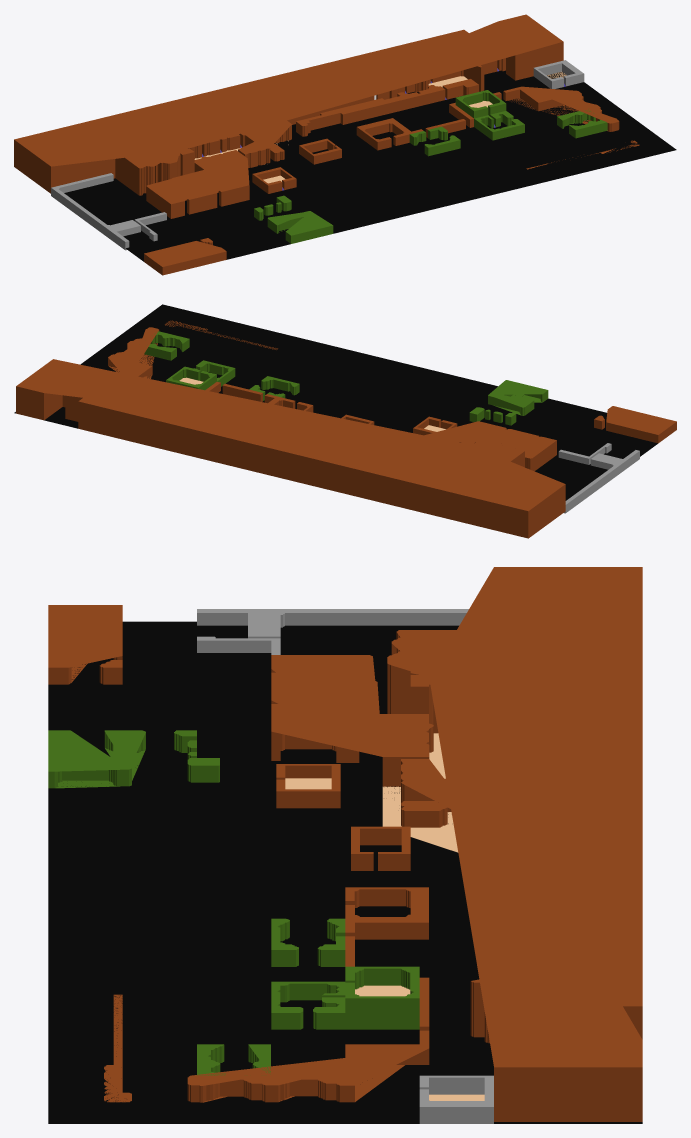
Rendered from Rest Of map.obj.
3 views of the same model, one above another, from view 1: azimuth 30°, elevation 25°; view 2: azimuth 150°, elevation 25°; view 3: azimuth 270°, elevation 25° (orthographic). The views are drawn at different scales.
Parts seen in each view (by area): view 1: Mesh42 Model, Mesh56 Model, Mesh51 Model, Mesh50 Model, Mesh54 Model, Mesh41 Model, Mesh37 Group34 Model, Mesh53 Model, Mesh49 Model, Mesh48 Model; view 2: Mesh42 Model, Mesh56 Model, Mesh51 Model, Mesh54 Model, Mesh41 Model, Mesh50 Model, Mesh53 Model, Mesh48 Model, Mesh16 Group13 Model, Mesh37 Group34 Model; view 3: Mesh56 Model, Mesh42 Model, Mesh51 Model, Mesh50 Model, Mesh41 Model, Mesh54 Model, Mesh37 Group34 Model, Mesh53 Model, Mesh49 Model, Mesh13 Group11 Model, Mesh52 Model, Mesh43 Model (+2 smaller).
Boxes of the visible parts, x1,y1,x2,y2 form: Mesh42 Model: (14, 14, 584, 250); Mesh56 Model: (64, 70, 676, 261); Mesh51 Model: (503, 86, 619, 138); Mesh50 Model: (449, 90, 524, 140); Mesh54 Model: (144, 241, 226, 275); Mesh41 Model: (267, 211, 333, 243); Mesh37 Group34 Model: (356, 118, 423, 150); Mesh53 Model: (252, 167, 296, 193); Mesh49 Model: (299, 138, 341, 164); Mesh48 Model: (424, 135, 460, 156); Mesh42 Model: (16, 359, 639, 538); Mesh56 Model: (14, 304, 657, 500); Mesh51 Model: (108, 327, 189, 378); Mesh54 Model: (606, 406, 676, 443); Mesh41 Model: (488, 380, 548, 415); Mesh50 Model: (166, 360, 235, 392); Mesh53 Model: (413, 416, 457, 435); Mesh48 Model: (261, 376, 299, 395); Mesh16 Group13 Model: (222, 383, 262, 401); Mesh37 Group34 Model: (264, 394, 313, 412); Mesh56 Model: (48, 621, 642, 1123); Mesh42 Model: (197, 567, 642, 1123); Mesh51 Model: (187, 1030, 429, 1102); Mesh50 Model: (271, 966, 429, 1030); Mesh41 Model: (48, 730, 145, 788); Mesh54 Model: (48, 605, 122, 684); Mesh37 Group34 Model: (345, 887, 428, 939); Mesh53 Model: (276, 764, 340, 808); Mesh49 Model: (351, 826, 410, 870); Mesh13 Group11 Model: (382, 786, 458, 852); Mesh52 Model: (104, 994, 131, 1102); Mesh43 Model: (401, 801, 447, 827).
Bounding box in the file's own units: 256 × 14.89 × 128.
